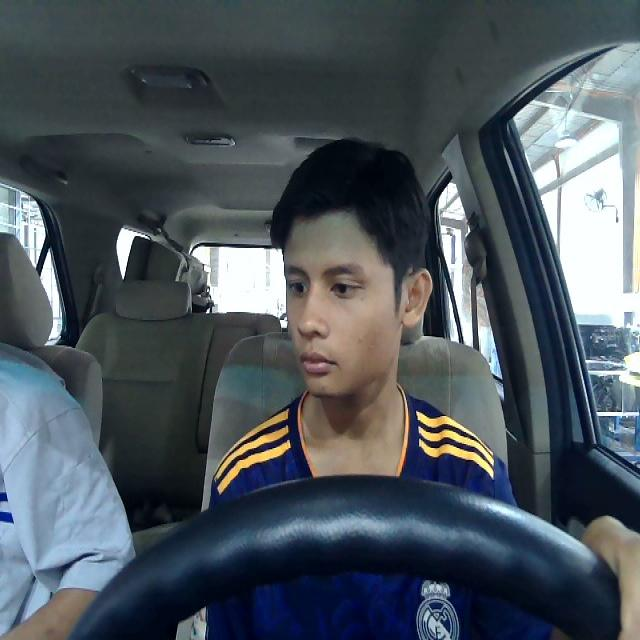seeing_left: (282, 210, 433, 398)
